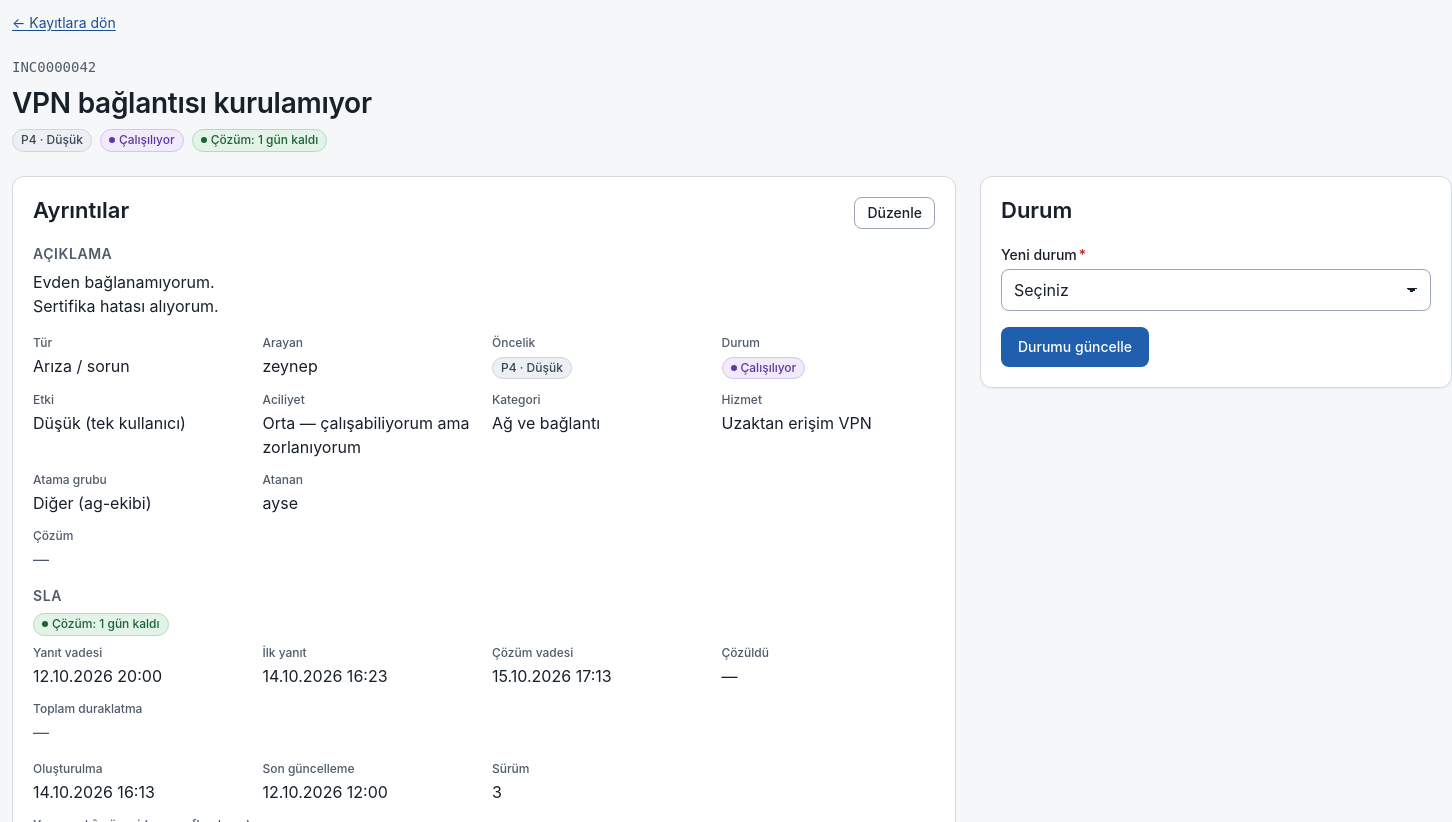
Test case: IncidentDetailPage — düzenleme (optimistik kilit) › yalnızca değişen alanları If-Match sürümüyle gönderir
Click the button "Düzenle": click(895, 213) x1=854 y1=197 x2=935 y2=229
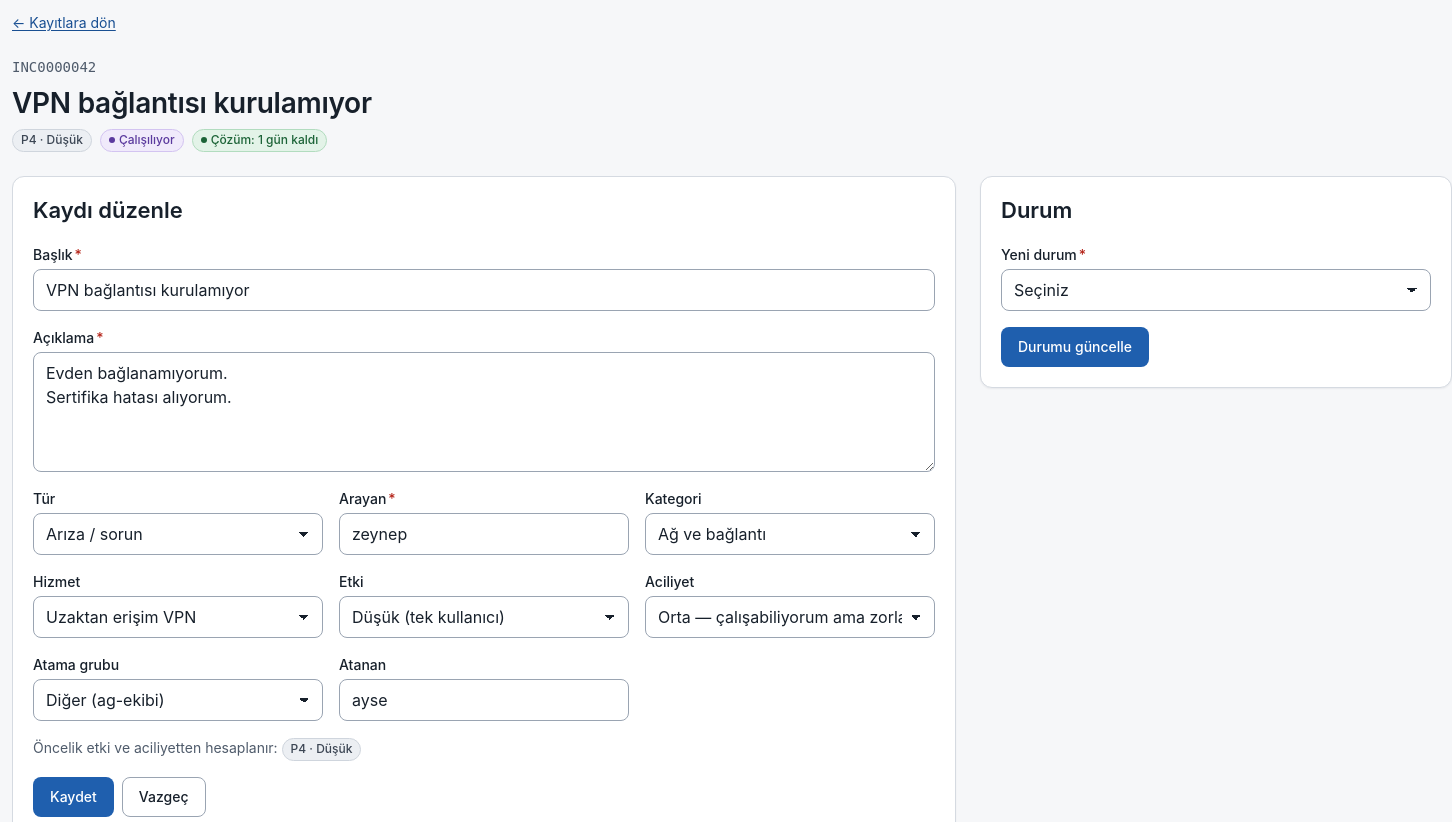
Replace the text in the field labelled "Başlık*" with "VPN sertifika hatası": (484, 290) x1=33 y1=269 x2=935 y2=311
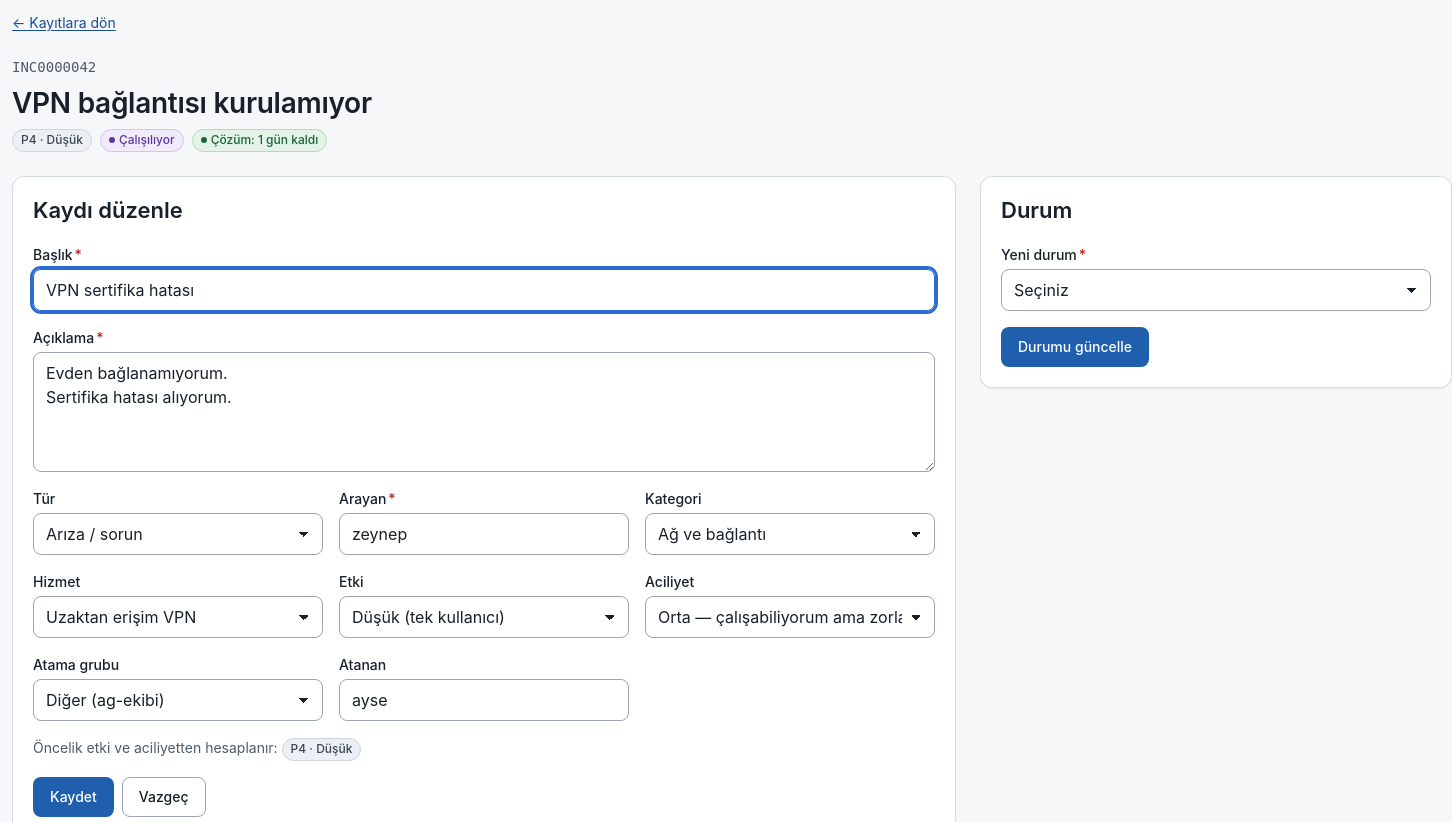
Clear the field labelled "Atanan": (484, 700) x1=339 y1=679 x2=629 y2=721
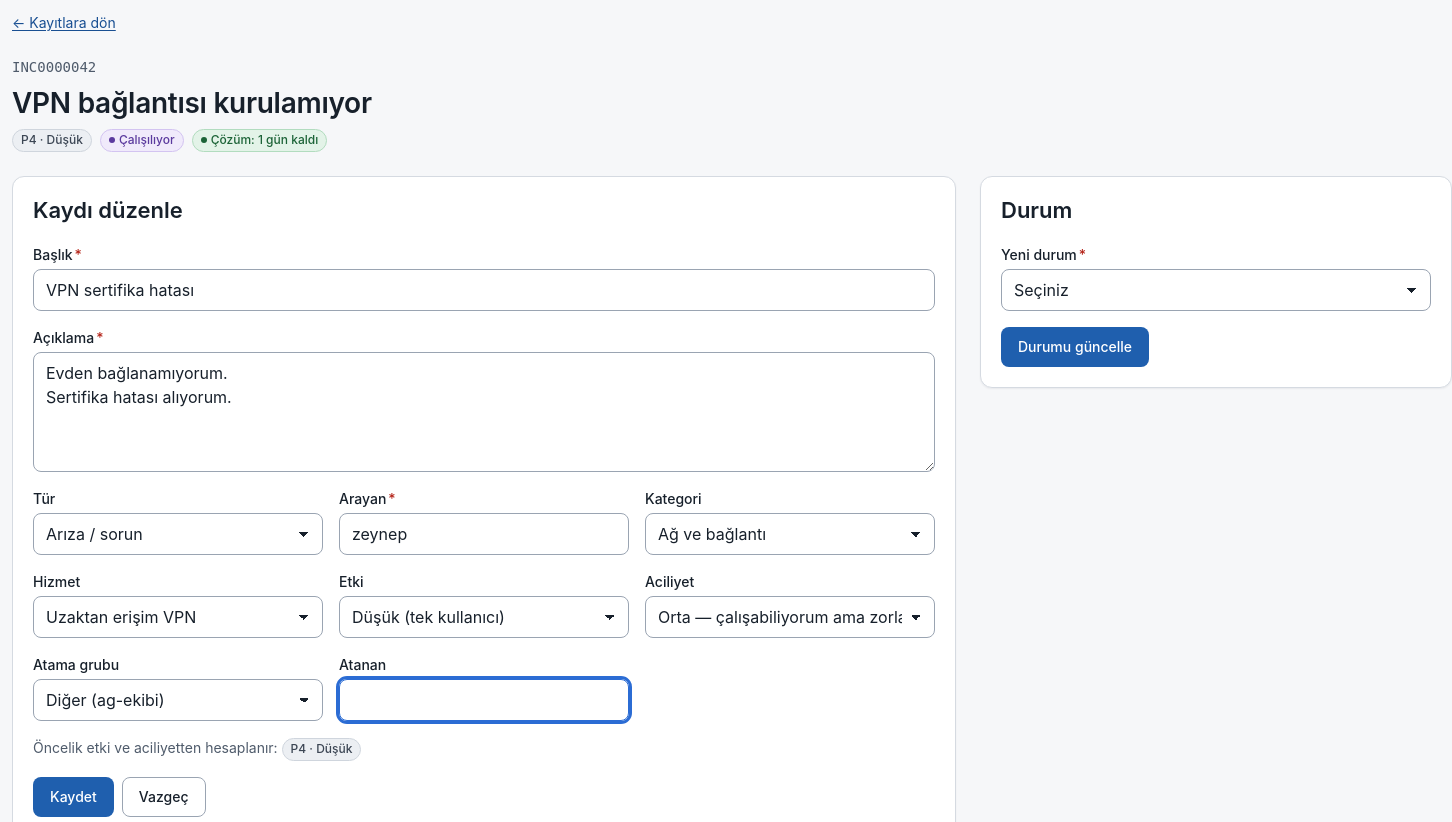
Select "Yüksek (kurum geneli / çok sayıda kullanıcı)" in the dropdown labelled "Etki": (484, 617) x1=339 y1=596 x2=629 y2=638
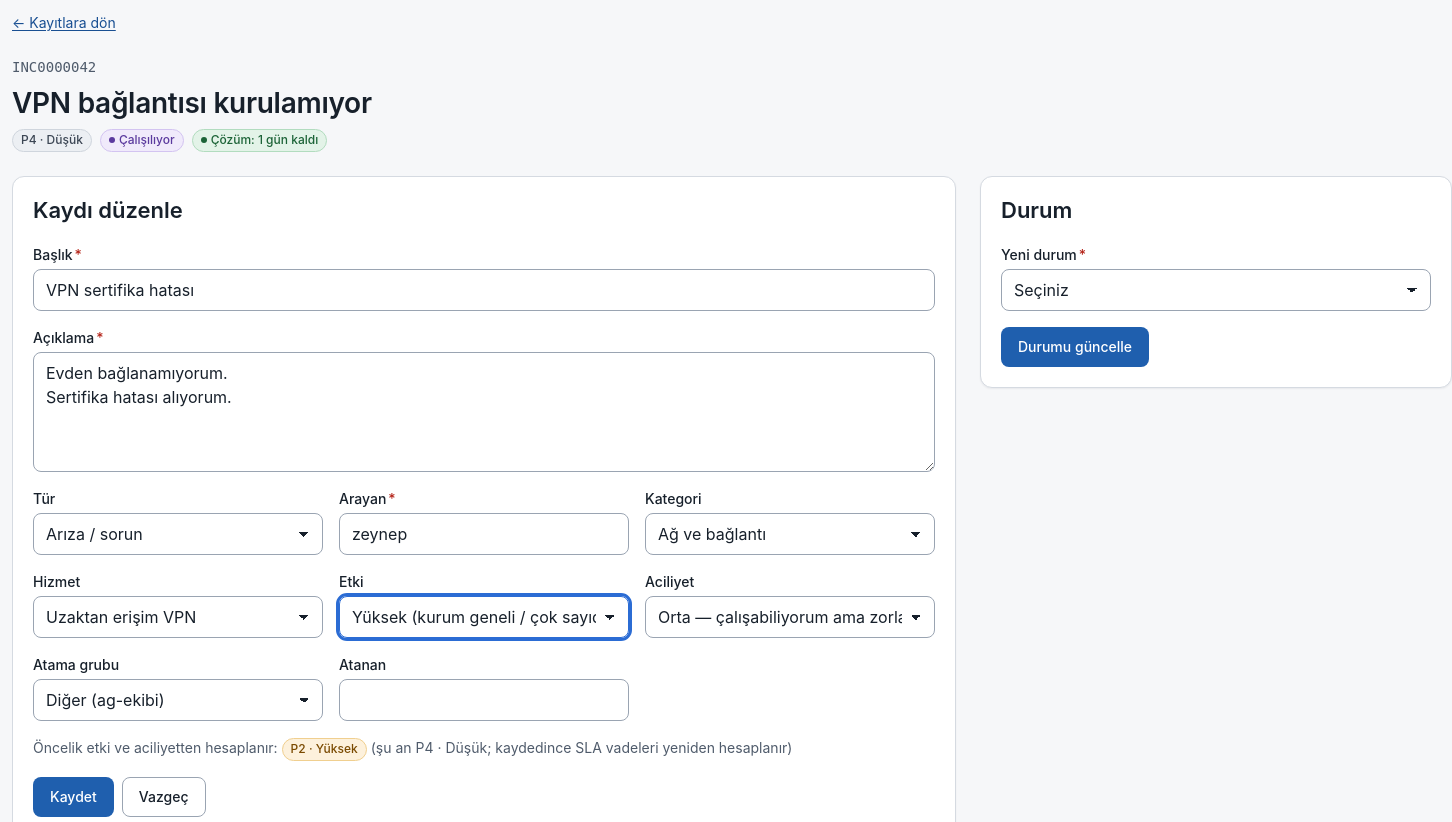
Check: the text "P2 · Yüksek" is shown, box x1=282 y1=738 x2=367 y2=761
Click the button "Kaydet": click(73, 797) x1=33 y1=777 x2=114 y2=817
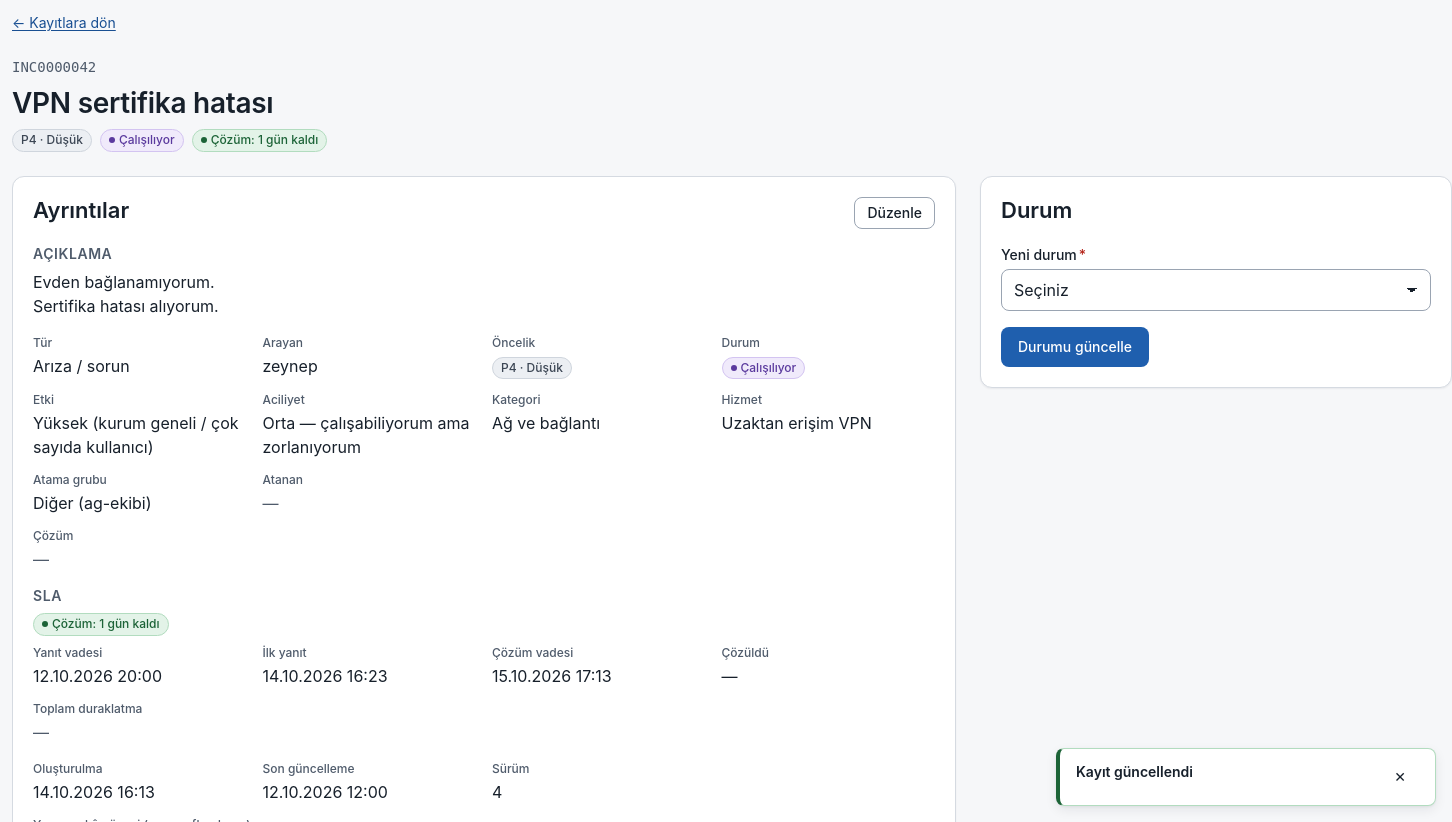
Check: the text "Kayıt güncellendi" is shown, box x1=1076 y1=763 x2=1193 y2=780
Check: the heading "VPN sertifika hatası" is shown, box x1=12 y1=86 x2=273 y2=120
Check: the heading "Kaydı düzenle" is gone
